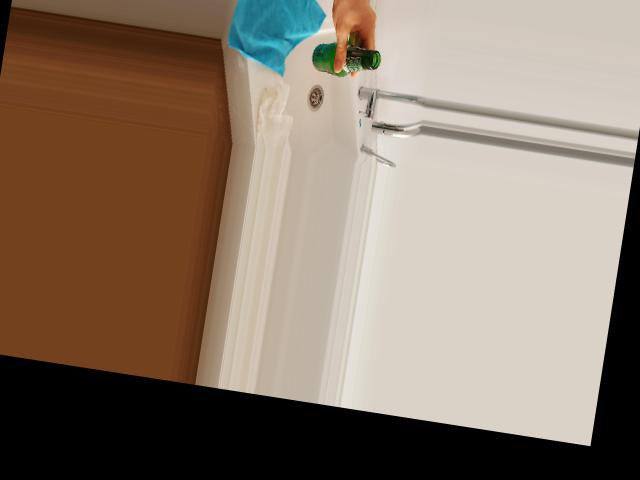beer: (309, 35, 382, 82)
